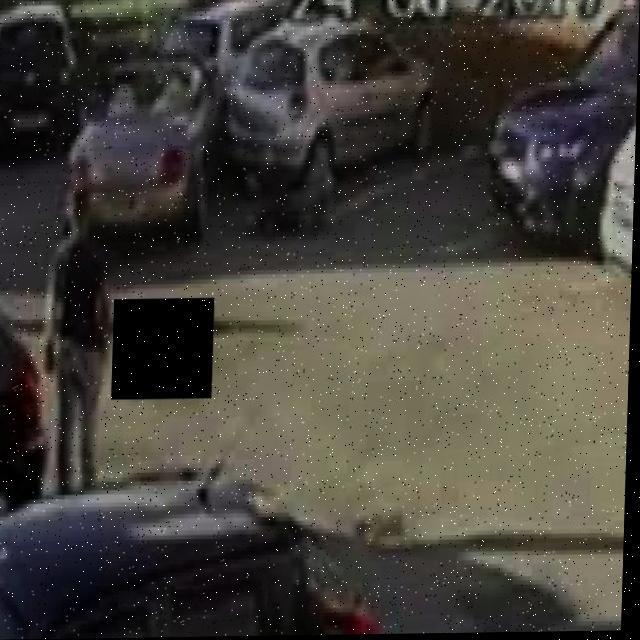multiple_accident: (79, 26, 384, 219)
normal: (499, 49, 633, 260)
